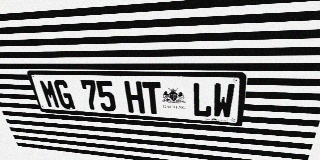5: (95, 80, 117, 112)
7: (79, 80, 102, 111)
G: (53, 79, 75, 109)
H: (124, 81, 145, 114)
L: (192, 82, 213, 118)
M: (38, 79, 61, 108)
T: (142, 81, 163, 115)
W: (212, 83, 235, 119)
